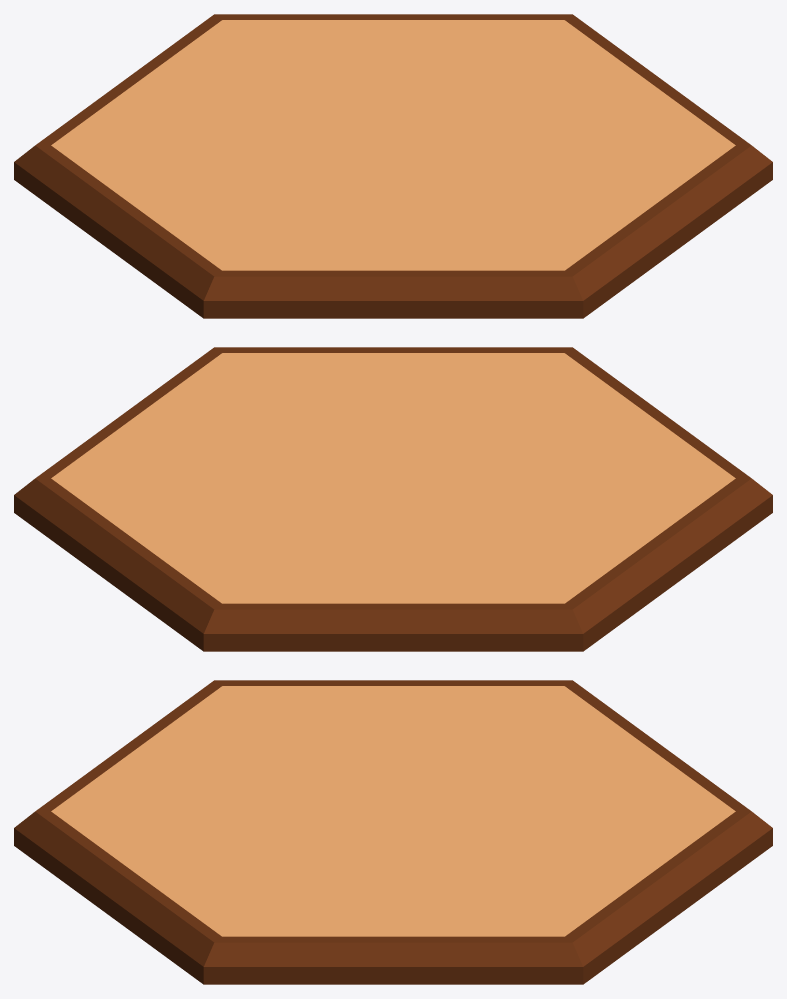
Rendered from desert_hex.fbx.
The picture shows the model from 3 angles, top to bottom: view 1: azimuth 30°, elevation 25°; view 2: azimuth 150°, elevation 25°; view 3: azimuth 270°, elevation 25°; orthographic projection.
Parts seen in each view (by area): view 1: Cylinder; view 2: Cylinder; view 3: Cylinder.
Boxes of the visible parts, left/top/right/bottom form: Cylinder: left=14, top=14, right=772, bottom=318; Cylinder: left=14, top=347, right=772, bottom=651; Cylinder: left=14, top=680, right=772, bottom=984.
Size of the model in its own units: 173 by 10 by 200.
